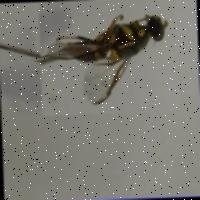Oriental-fruit-fly: (37, 0, 178, 116)
